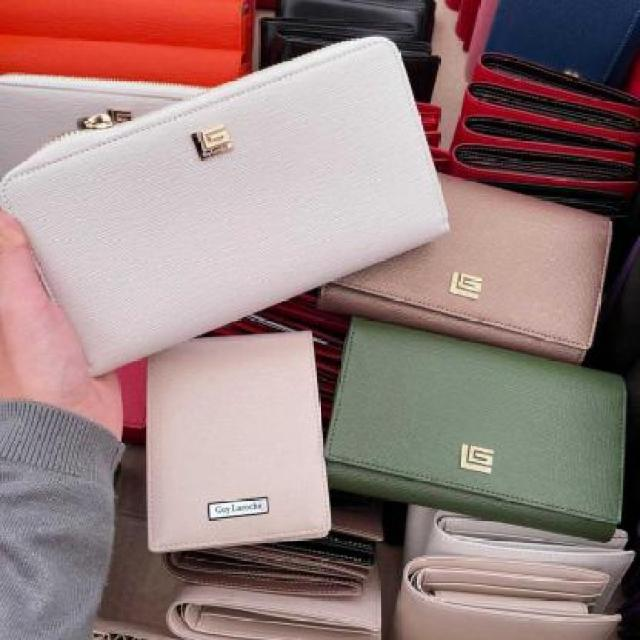Bag: (0, 17, 472, 384), (307, 279, 640, 558), (277, 117, 629, 372), (101, 302, 342, 576)
